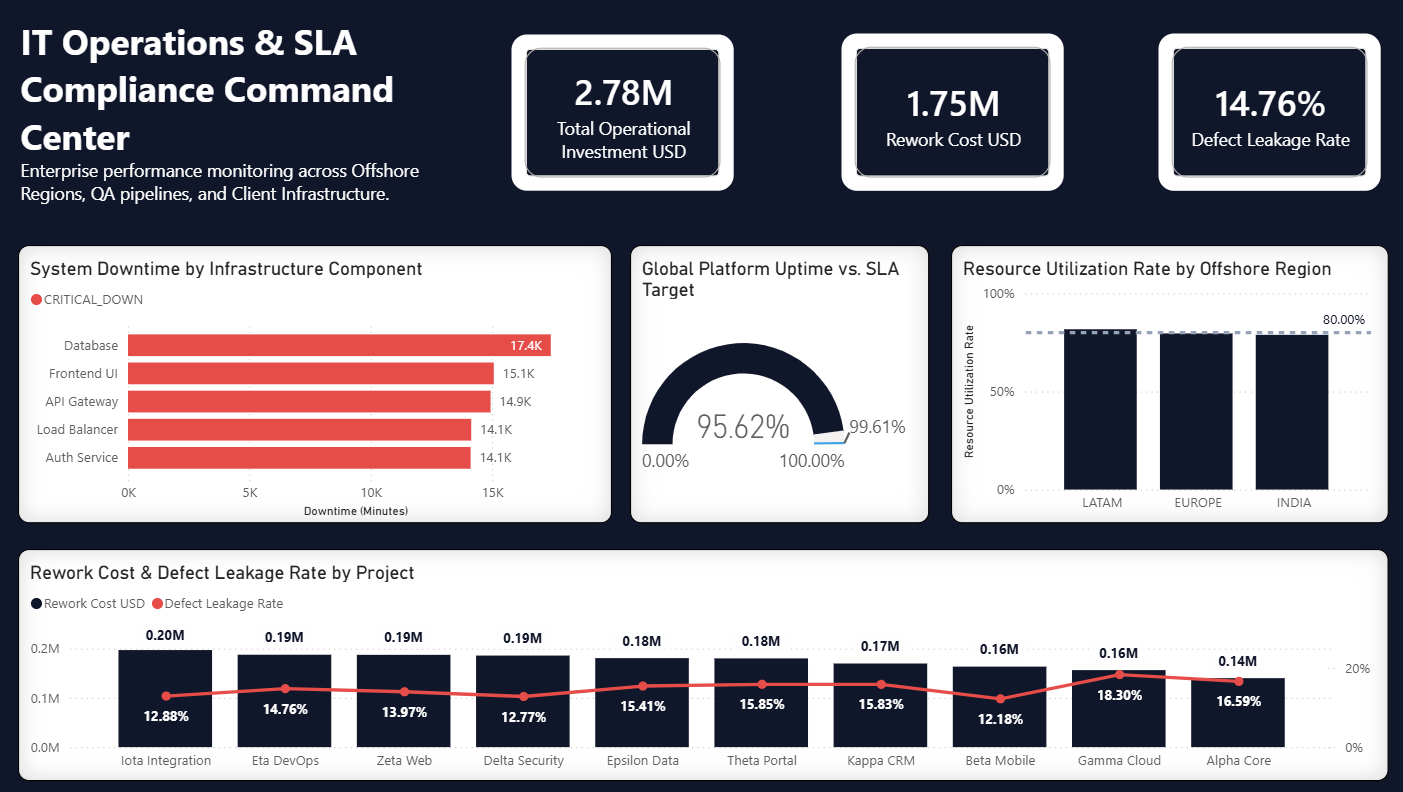

The dashboard page shown, as its layout file describes it:
{"tool":"powerbi","page":{"name":"IT Operations & SLA Compliance Command Center","canvas":[1280,720],"ordinal":0},"visuals":[{"type":"cardVisual","fields":{"Data":["_Measures.Total Operational Investment USD"]},"box":[462.2,26.2,212.8,152.4],"z":0,"group":"g1"},{"type":"gauge","title":"Global Platform Uptime vs. SLA Target","fields":{"Y":["_Measures.Actual Uptime %"],"TargetValue":["_Measures.Target Uptime"]},"box":[573.8,222.3,272,253.3],"z":0,"group":"g2"},{"type":"lineStackedColumnComboChart","title":"Rework Cost & Defect Leakage Rate by Project","fields":{"Category":["v_dim_projects.project_name"],"Y":["_Measures.Rework Cost USD"],"Y2":["_Measures.Defect Leakage Rate"]},"box":[17.8,499,1245.6,211.1],"z":0},{"type":"group","id":"g1","title":"Group 1","box":[462.2,25.4,801.1,153.3],"z":1000},{"type":"cardVisual","fields":{"Data":["_Measures.Rework Cost USD"]},"box":[762.5,25.4,212.8,153.3],"z":1000,"group":"g1"},{"type":"cardVisual","fields":{"Data":["_Measures.Defect Leakage Rate"]},"box":[1050.5,25.4,212.8,153.3],"z":2000,"group":"g1"},{"type":"group","id":"g2","title":"Group 2","box":[17.8,222.3,1245.6,253.3],"z":2000},{"type":"textbox","box":[15,10,416.7,186.7],"z":3000},{"type":"barChart","title":"System Downtime by Infrastructure Component","fields":{"Category":["v_fact_infrastructure_logs.infrastructure_component"],"Y":["Sum(v_fact_infrastructure_logs.system_downtime_minutes)"],"Series":["v_fact_infrastructure_logs.alert_type"]},"box":[17.8,222.3,540.1,253.3],"z":3000,"group":"g2"},{"type":"clusteredColumnChart","title":"Resource Utilization Rate by Offshore Region","fields":{"Y":["_Measures.Resource Utilization Rate"],"Category":["v_dim_employees.offshore_region"]},"box":[865.8,222.3,397.6,253.3],"z":4000,"group":"g2"}]}

Visuals, with their boxes in screenshot pixels (x1, y1, x2, y2), scaled from the page's 1280x720 canvas onto the 1403x792 screenshot:
cardVisual - _Measures.Total Operational Investment USD: [507,29,740,196]
"Global Platform Uptime vs. SLA Target" gauge: [629,245,927,523]
"Rework Cost & Defect Leakage Rate by Project" lineStackedColumnComboChart: [20,549,1385,781]
"Group 1" group: [507,28,1385,197]
cardVisual - _Measures.Rework Cost USD: [836,28,1069,197]
cardVisual - _Measures.Defect Leakage Rate: [1151,28,1385,197]
"Group 2" group: [20,245,1385,523]
textbox: [16,11,473,216]
"System Downtime by Infrastructure Component" barChart: [20,245,612,523]
"Resource Utilization Rate by Offshore Region" clusteredColumnChart: [949,245,1385,523]
